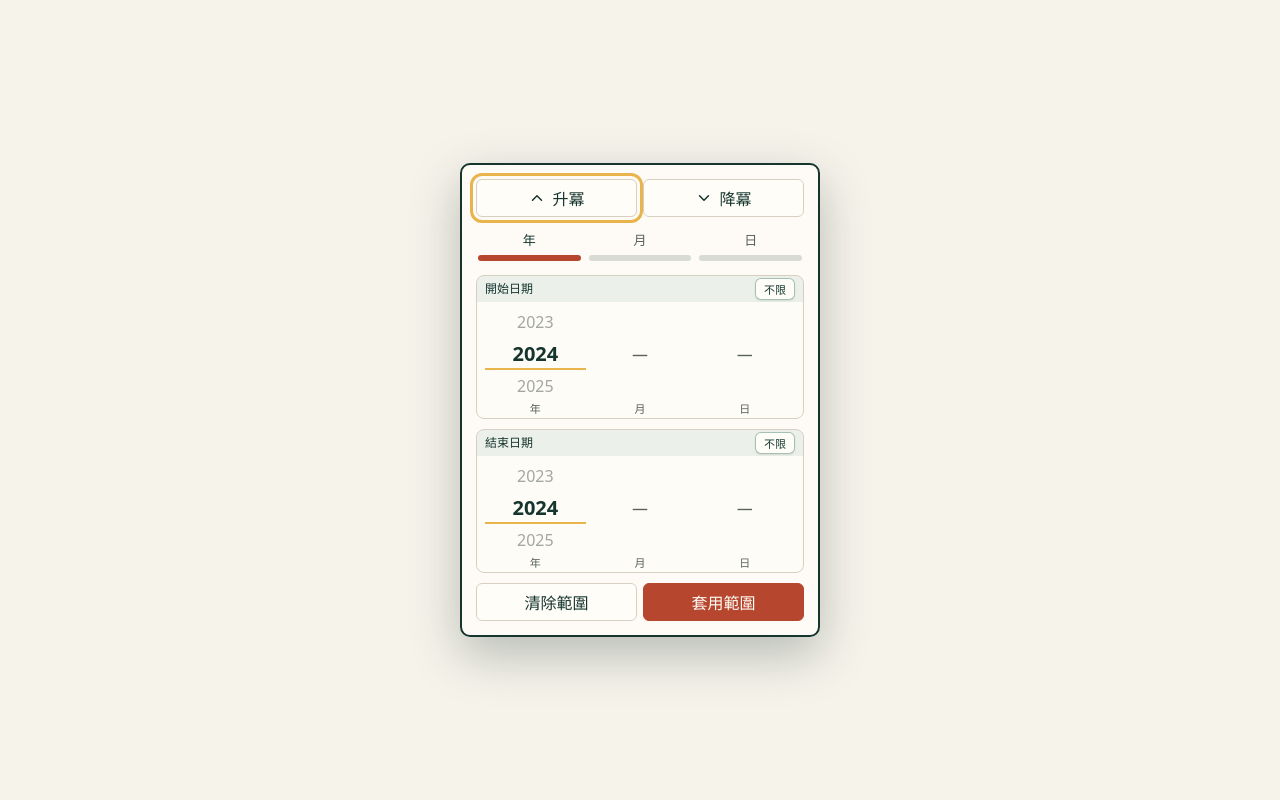
Test: workspace date range filter › returns to day precision and today immediately when clearing an existing range
What coordinates should you click on to do the following:
click the button "清除範圍"
I would click on:
 (556, 602)
Its box is [476, 583, 637, 621].
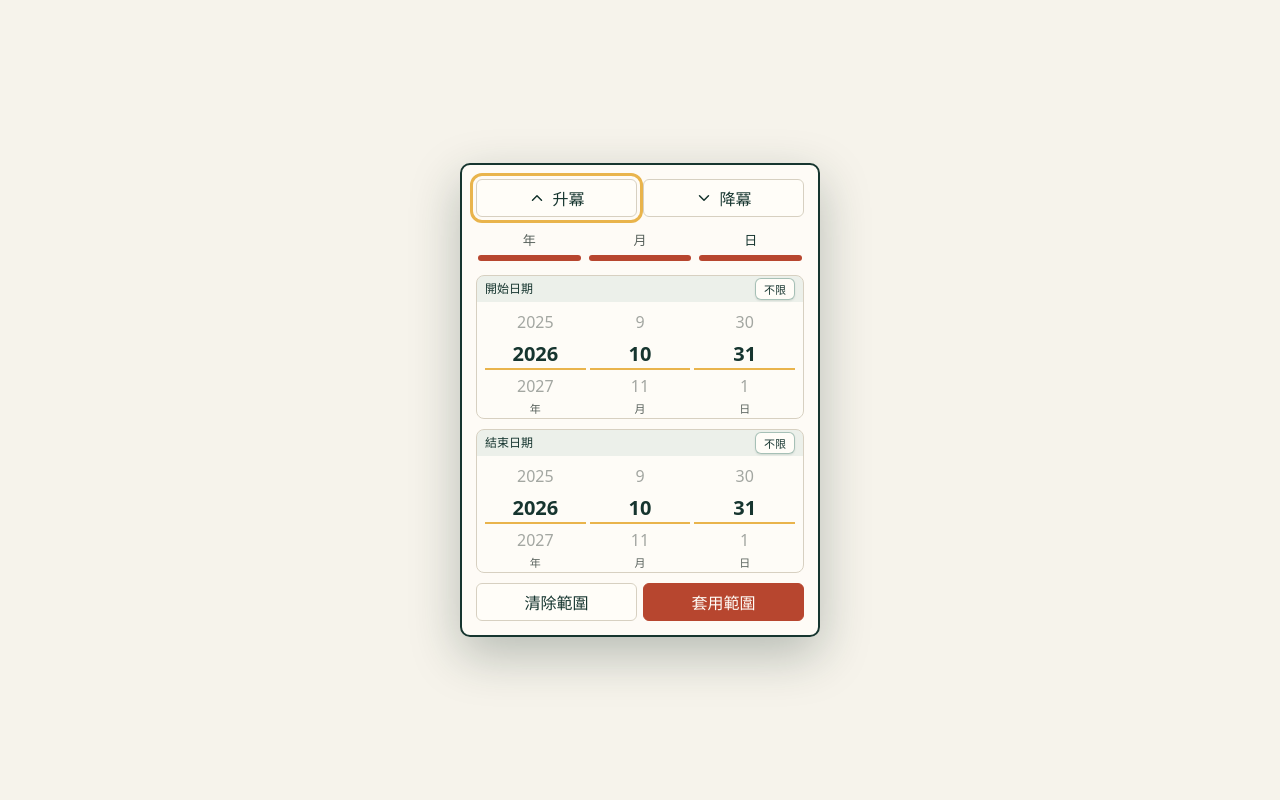
Expected: the option with class "selected" below "結束日期" reads "2026", [485, 492, 586, 524]
Expected: the option with class "selected" below "結束日期" reads "10", [590, 492, 690, 524]
Expected: the option with class "selected" below "結束日期" reads "31", [694, 492, 795, 524]
